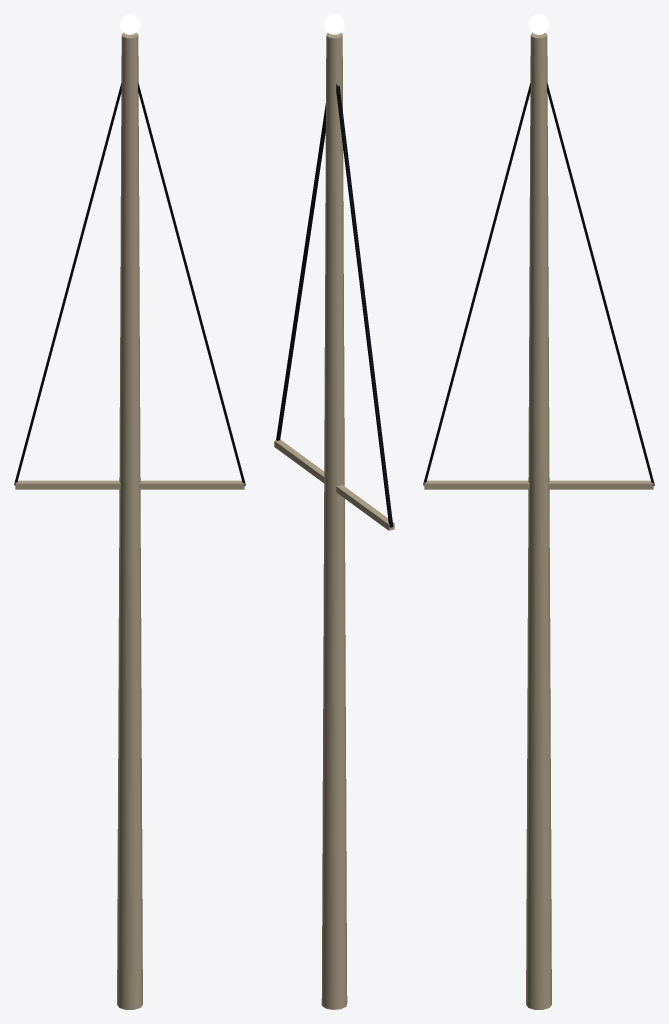
File: tf-boatmast-p3.glb
3 renders of one model, left to right at view 1: azimuth 90°, elevation 25°; view 2: azimuth 210°, elevation 25°; view 3: azimuth 270°, elevation 25°, orthographic.
Visible parts, largest first — view 1: tf-boatmast-p3; view 2: tf-boatmast-p3; view 3: tf-boatmast-p3.
Boxes of the visible parts, x1,y1,x2,y2 form: tf-boatmast-p3: (14,14,245,1009); tf-boatmast-p3: (274,14,394,1009); tf-boatmast-p3: (423,14,654,1009).
Bounding box in the file's own units: 0.3232 × 14.29 × 3.03.
